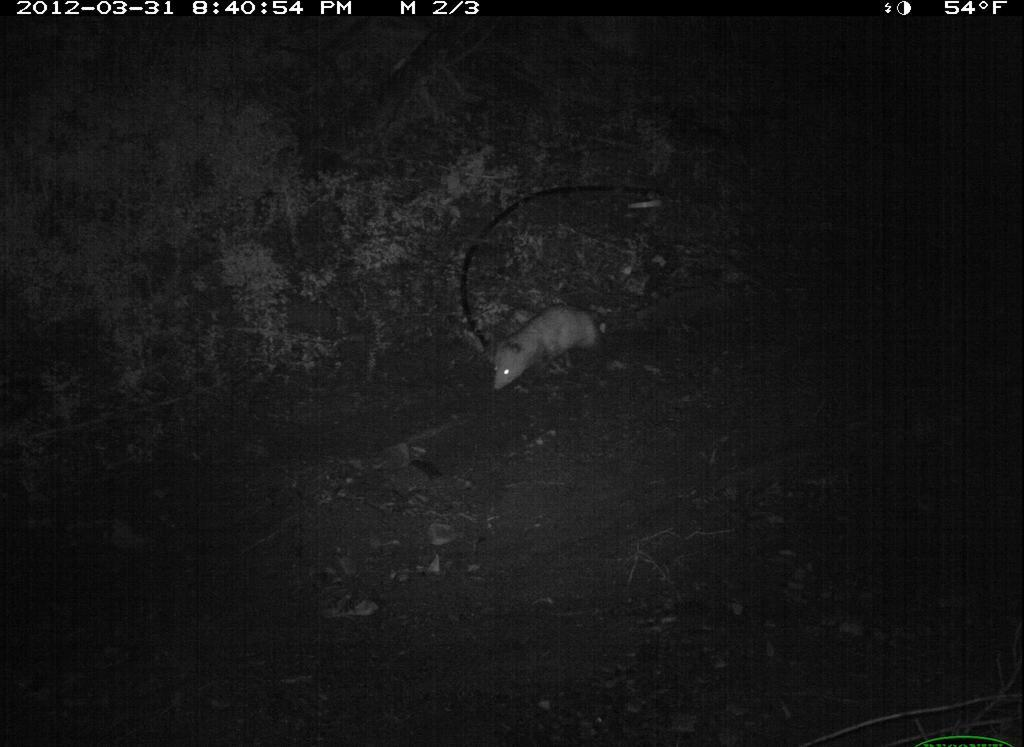opossum: (470, 289, 615, 396)
